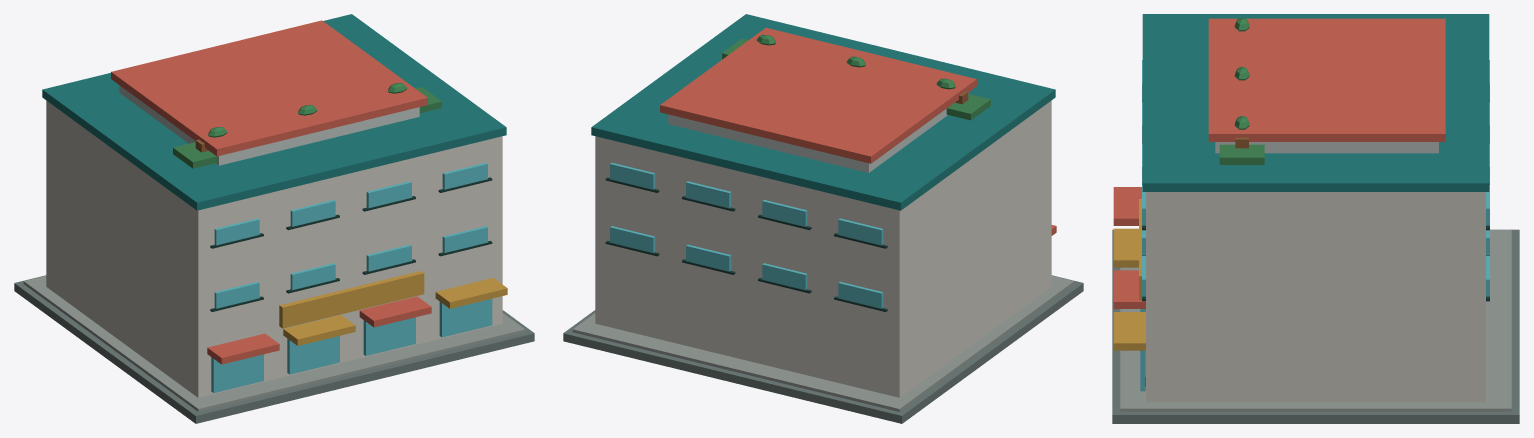
The model's file is market_lv3.glb.
3 views of the same model, side by side, from view 1: azimuth 30°, elevation 25°; view 2: azimuth 150°, elevation 25°; view 3: azimuth 270°, elevation 25° (orthographic). The views are drawn at different scales.
Visible parts, largest first — view 1: rough, glossy; view 2: rough, glossy; view 3: rough, glossy.
Boxes of the visible parts, left/top/right/bottom form: rough: left=14, top=14, right=534, bottom=423; glossy: left=211, top=162, right=492, bottom=392; rough: left=563, top=14, right=1083, bottom=423; glossy: left=610, top=162, right=883, bottom=308; rough: left=1112, top=14, right=1519, bottom=423; glossy: left=1140, top=60, right=1489, bottom=391.
Size of the model in its own units: 9.8 by 6.48 by 9.1.
